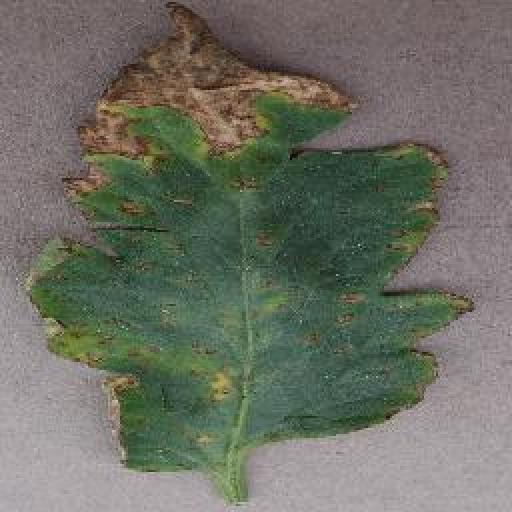Bacterial Spot: (24, 0, 475, 476)
